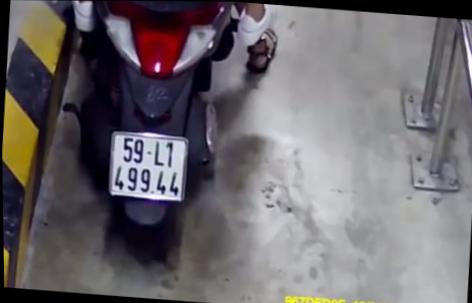LP: (104, 130, 189, 203)
